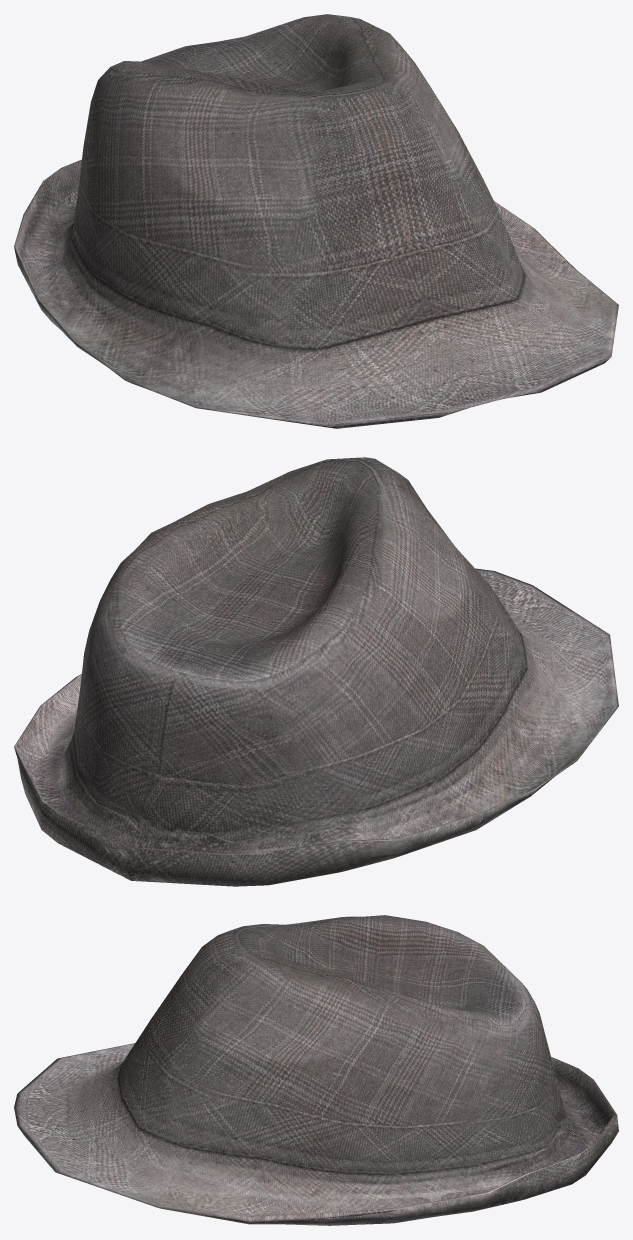
The model's file is hat_fedora.gltf.
3 renders of one model, top to bottom at view 1: azimuth 30°, elevation 25°; view 2: azimuth 150°, elevation 25°; view 3: azimuth 270°, elevation 25°, orthographic. The views are drawn at different scales.
Parts seen in each view (by area): view 1: hat_fedora; view 2: hat_fedora; view 3: hat_fedora.
Part boxes in pixels (x1,y1,x2,y2): hat_fedora: (14, 14, 618, 428); hat_fedora: (14, 457, 618, 886); hat_fedora: (14, 915, 618, 1225).
Size of the model in its own units: 0.1877 by 0.1008 by 0.2604.
1 material, 1 textured.
